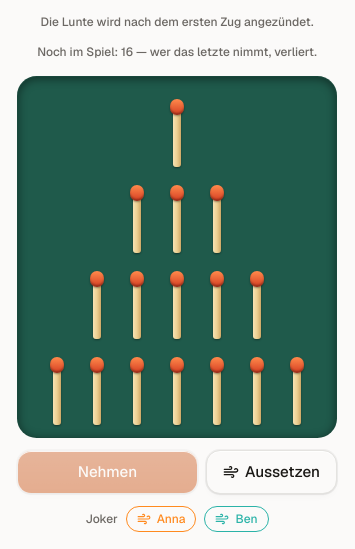
OnlineNim › on your move › moves the pick when another match is tapped, and drops it when tapped again
Step 1. Click the button named "Ab Streichholz 2 in Reihe 4 wählen" → click(97, 386), box top-left (78, 347), bottom-right (116, 425)
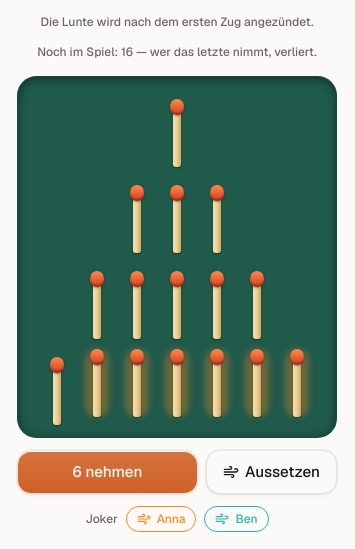
Expected: the button "6 nehmen" is enabled, top-left (17, 450), bottom-right (198, 494)
Step 2. Click the button named "Ab Streichholz 6 in Reihe 4 wählen" → click(257, 386), box top-left (238, 347), bottom-right (276, 425)
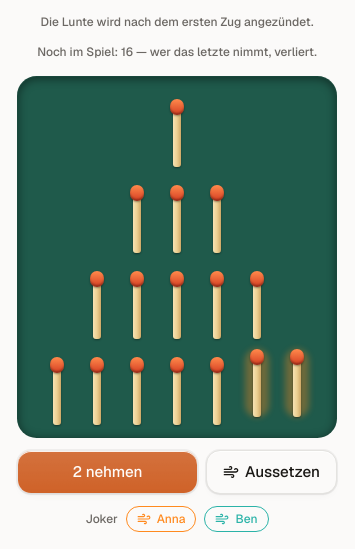
Expected: the button "2 nehmen" is enabled, top-left (17, 450), bottom-right (198, 494)
Step 3. Click the button named "Ab Streichholz 6 in Reihe 4 wählen" → click(257, 386), box top-left (238, 347), bottom-right (276, 425)
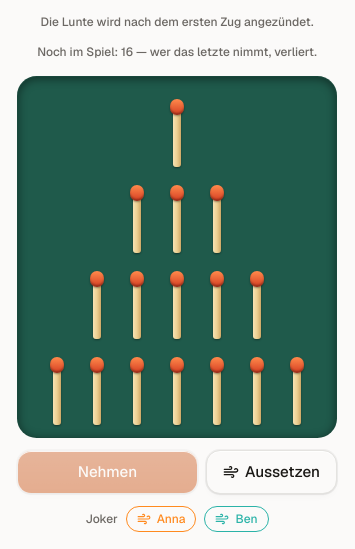
Expected: the button "Nehmen" is disabled, top-left (17, 450), bottom-right (198, 494)
